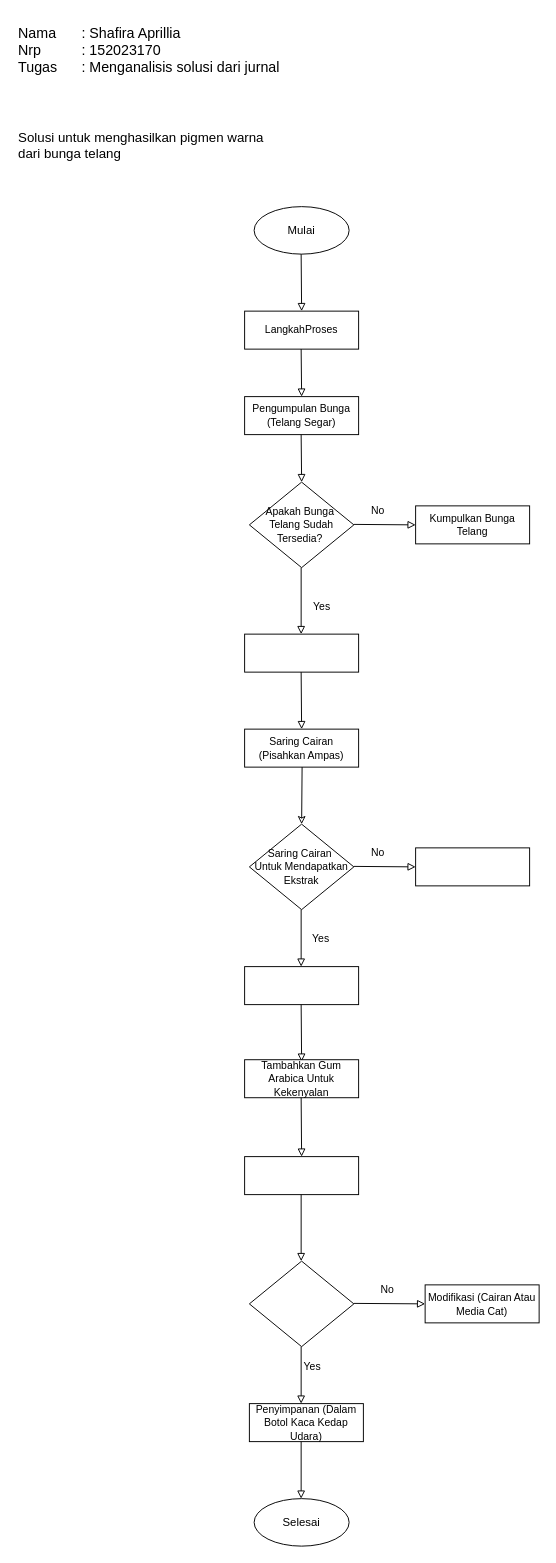
The diagram is 556 pixels wide and 1563 high, and some of its shapes have lost their labels. Each missing label, with the centre of its shape:
Apakah Hasilnya Sesuai?: point 301,1303
Lakukan Penyaringan: point 472,866
Rebus/Hancurkan Bunga Telang Dengan Air: point 301,652
Tambahkan Bahan Cuka/Garam Untuk Memperbaiki Warna: point 301,985
Uji Warna Di Kertas: point 301,1175
